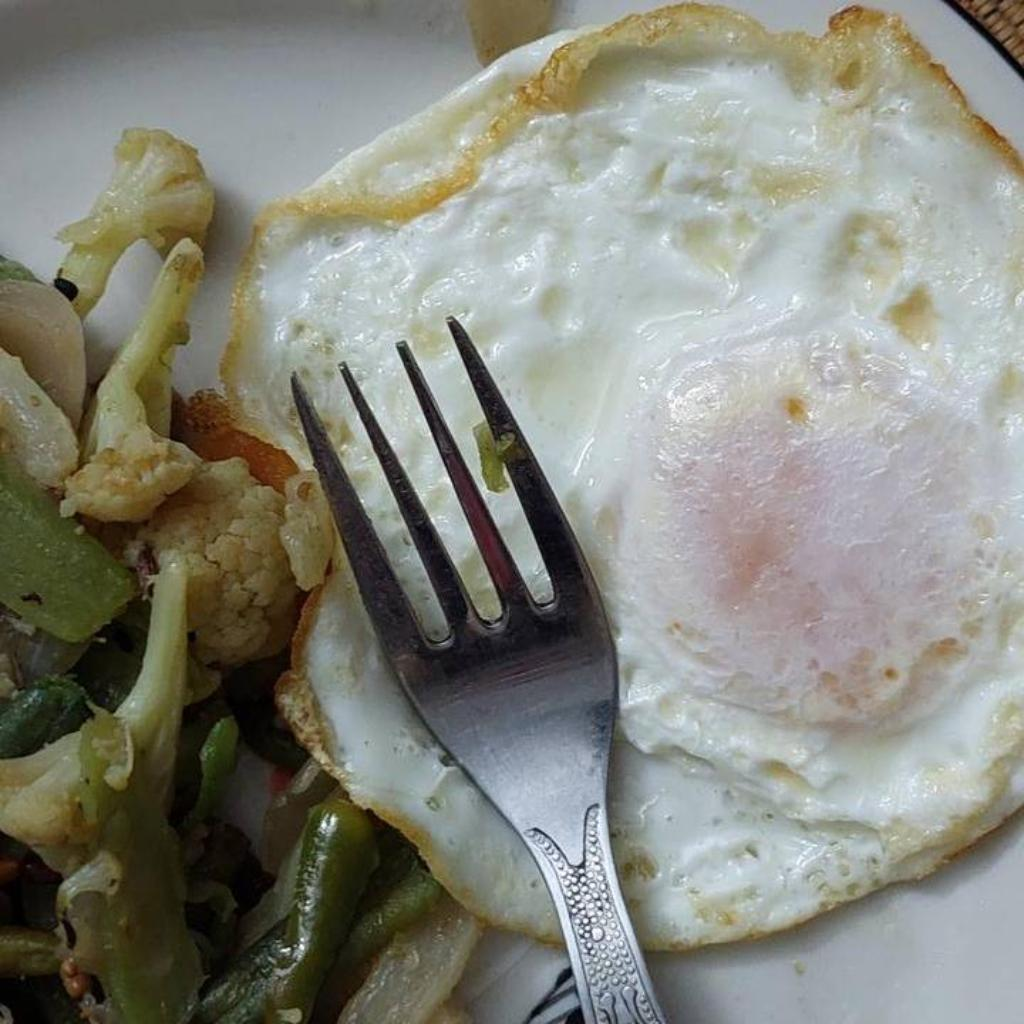egg-poached: (220, 3, 1023, 950), (276, 536, 559, 943)
vegetable: (0, 129, 475, 1023)
